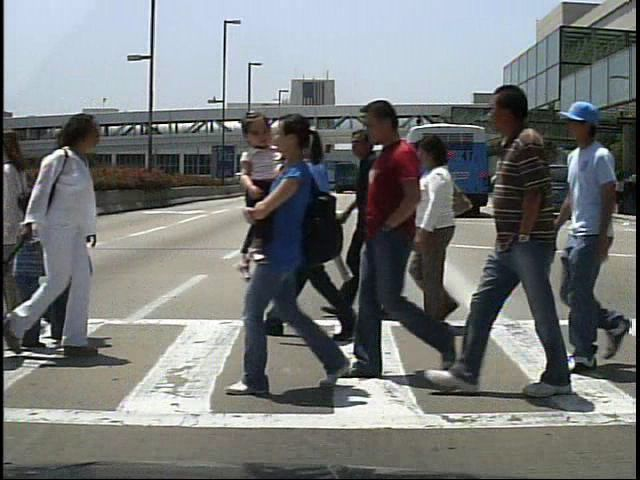person: (475, 84, 579, 414), (10, 113, 119, 362), (361, 97, 453, 376), (263, 121, 364, 347), (556, 101, 629, 376), (405, 137, 487, 339), (337, 130, 410, 322), (44, 112, 98, 360), (10, 213, 51, 345), (582, 168, 602, 218), (507, 166, 526, 215), (502, 165, 507, 215)
